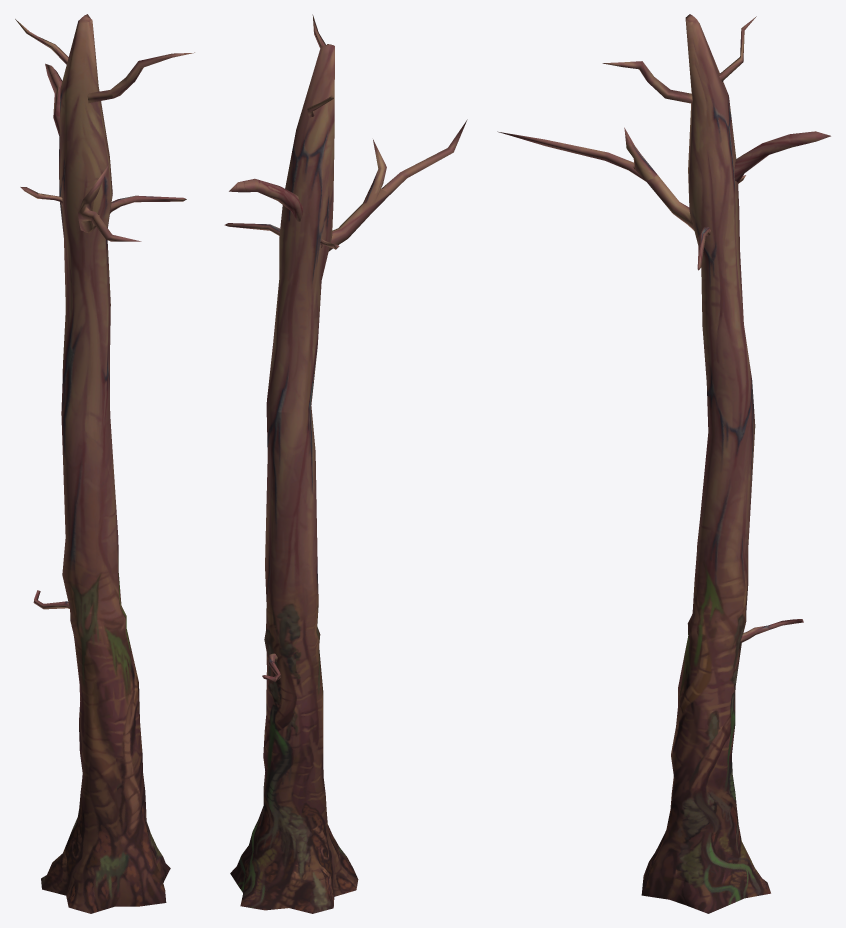
The model's file is Tree1.FBX.
3 views of the same model, side by side, from view 1: azimuth 30°, elevation 25°; view 2: azimuth 150°, elevation 25°; view 3: azimuth 270°, elevation 25° (orthographic). The views are drawn at different scales.
Parts seen in each view (by area): view 1: Tree1; view 2: Tree1; view 3: Tree1.
Boxes of the visible parts, left/top/right/bottom form: Tree1: left=15, top=14, right=194, bottom=913; Tree1: left=224, top=14, right=467, bottom=913; Tree1: left=497, top=14, right=830, bottom=913.
Size of the model in its own units: 176 by 922 by 329.
